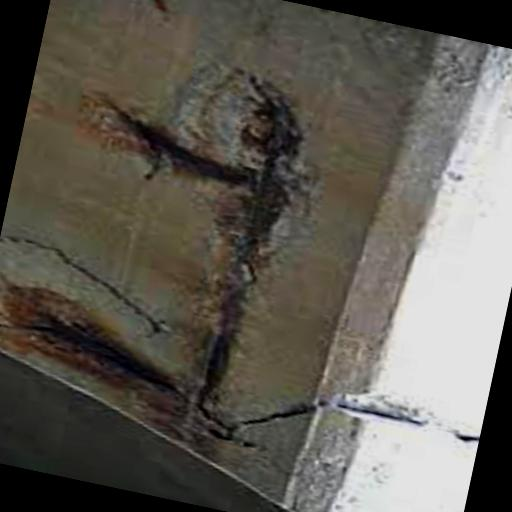spalling: (13, 64, 308, 445), (0, 224, 173, 350), (234, 373, 476, 453)
